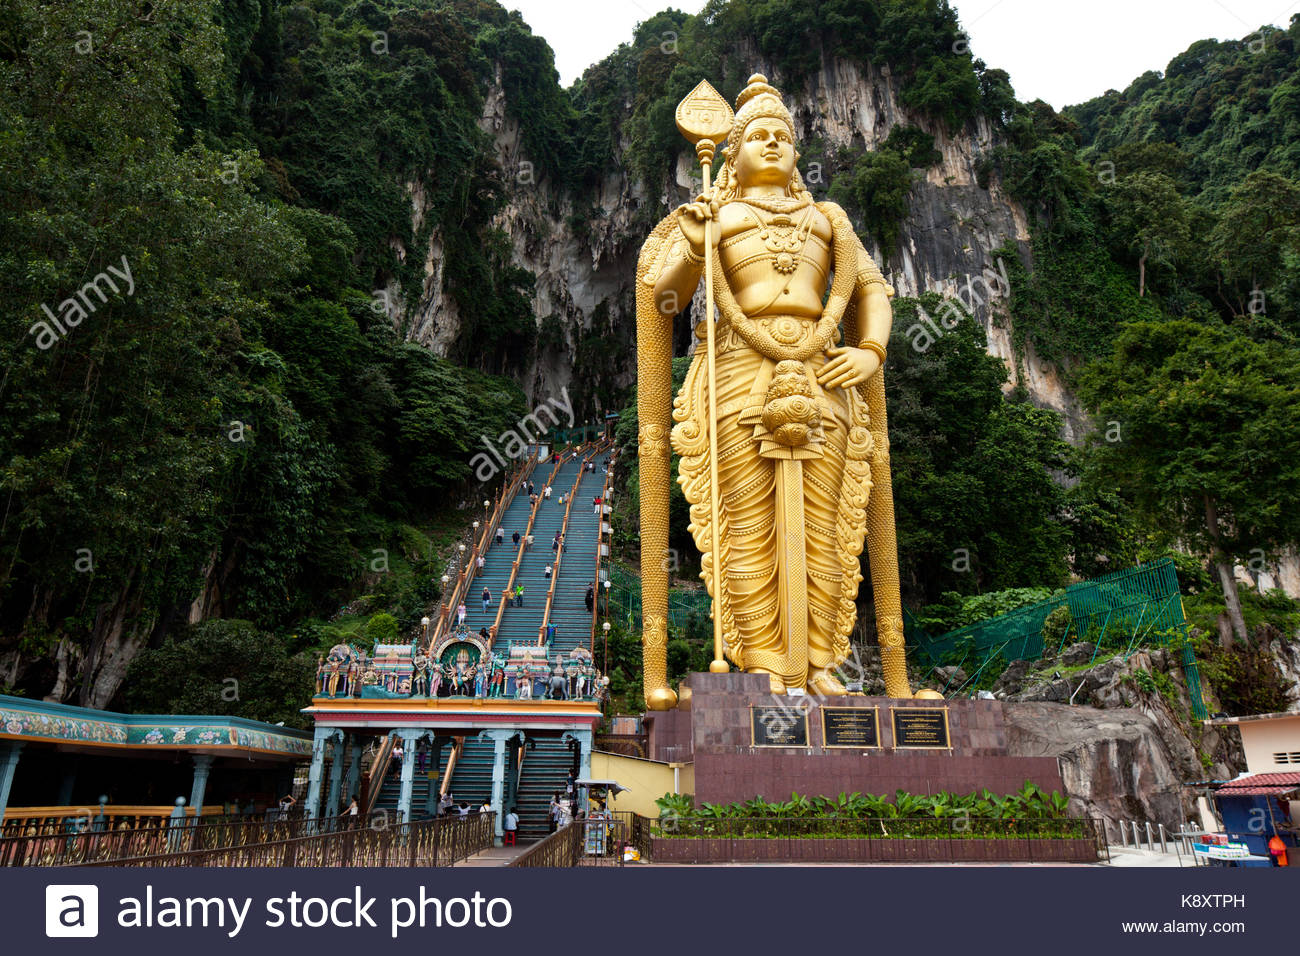Hindu Temple: (615, 68, 915, 693)
